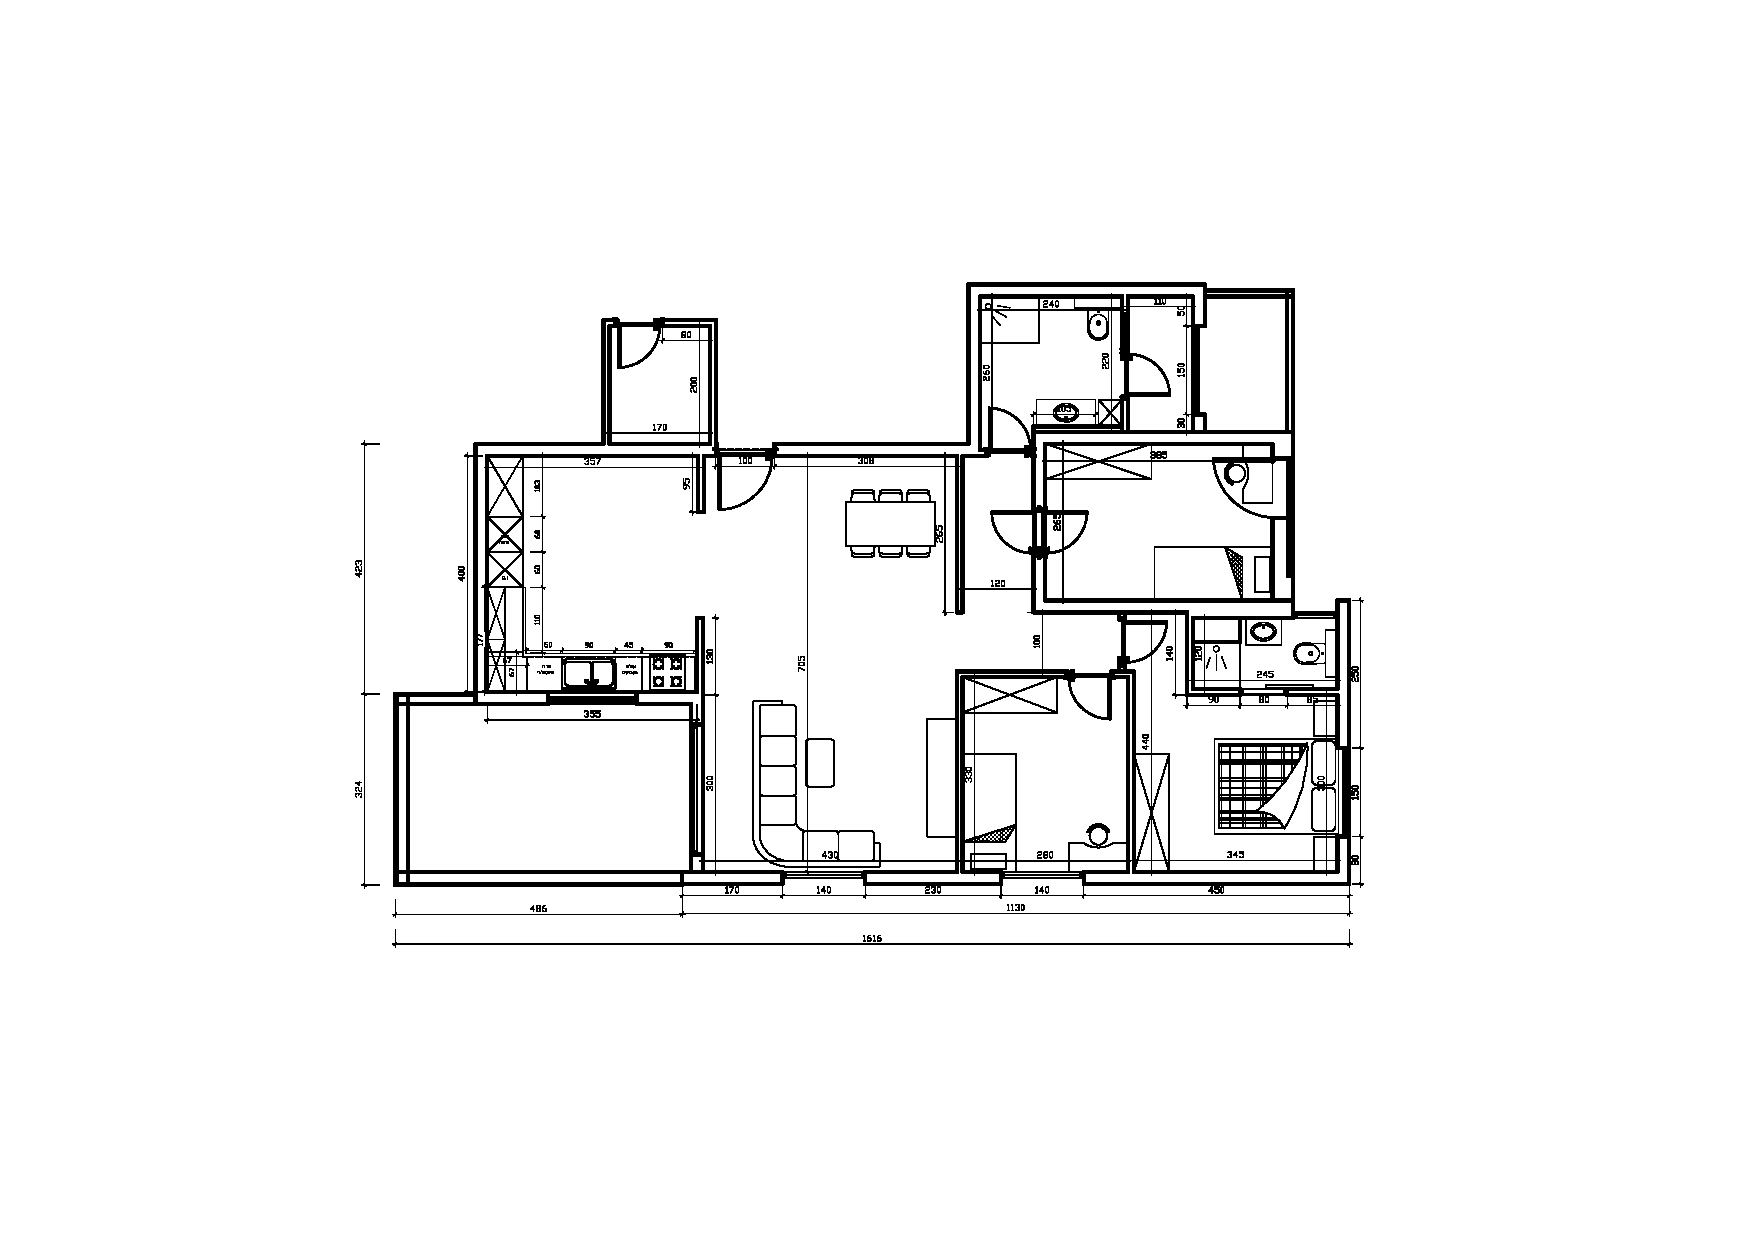door: (977, 399, 1052, 458), (1126, 348, 1201, 407), (706, 458, 781, 515), (1048, 498, 1123, 556), (962, 498, 1037, 556), (615, 330, 664, 376)
window: (780, 870, 868, 896), (998, 870, 1086, 896)
